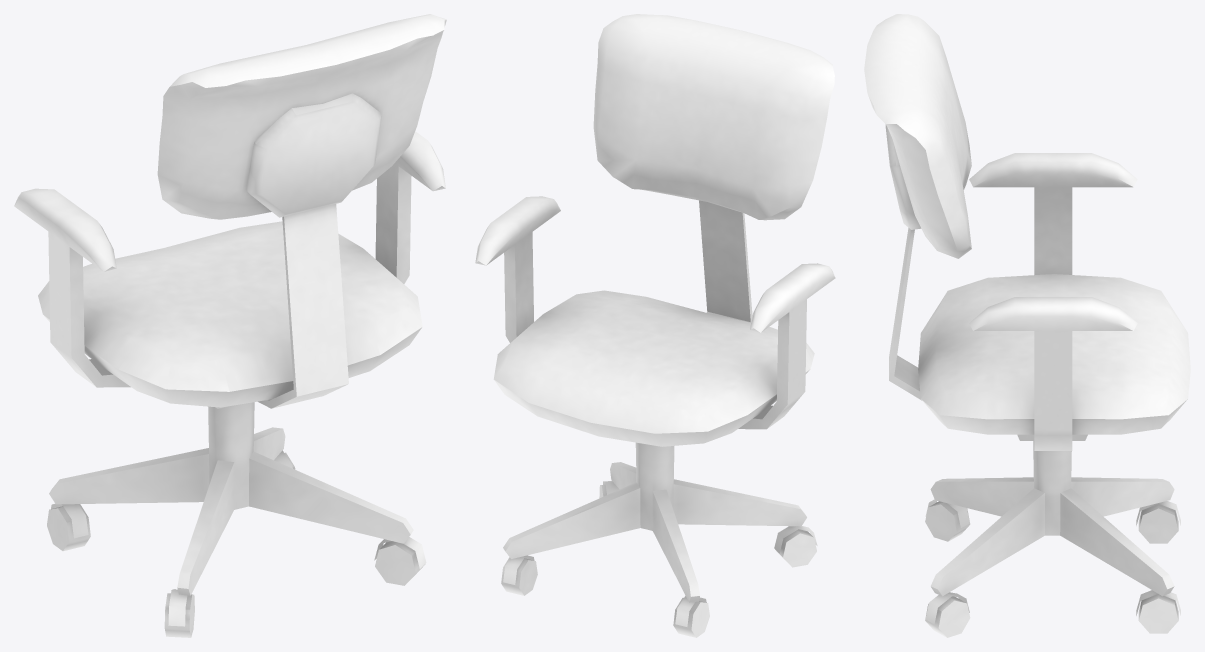
The model's file is OfficeChairSmall.glb.
The picture shows the model from 3 angles, left to right: view 1: azimuth 30°, elevation 25°; view 2: azimuth 150°, elevation 25°; view 3: azimuth 270°, elevation 25°; orthographic projection. The views are drawn at different scales.
Parts seen in each view (by area): view 1: OfficeChairSmall, OfficeChairSmall.001, OfficeChairSmall.002; view 2: OfficeChairSmall, OfficeChairSmall.001, OfficeChairSmall.002; view 3: OfficeChairSmall, OfficeChairSmall.001, OfficeChairSmall.002.
Boxes of the visible parts, <box> form: OfficeChairSmall: <box>38,14,446,407</box>; OfficeChairSmall.001: <box>14,93,445,626</box>; OfficeChairSmall.002: <box>47,452,425,637</box>; OfficeChairSmall: <box>493,14,834,446</box>; OfficeChairSmall.001: <box>475,196,835,626</box>; OfficeChairSmall.002: <box>501,484,816,637</box>; OfficeChairSmall: <box>864,14,1190,434</box>; OfficeChairSmall.001: <box>885,125,1180,624</box>; OfficeChairSmall.002: <box>925,501,1178,637</box>.
Size of the model in its own units: 0.5218 by 0.8001 by 0.4552.
1 material, 1 textured.
